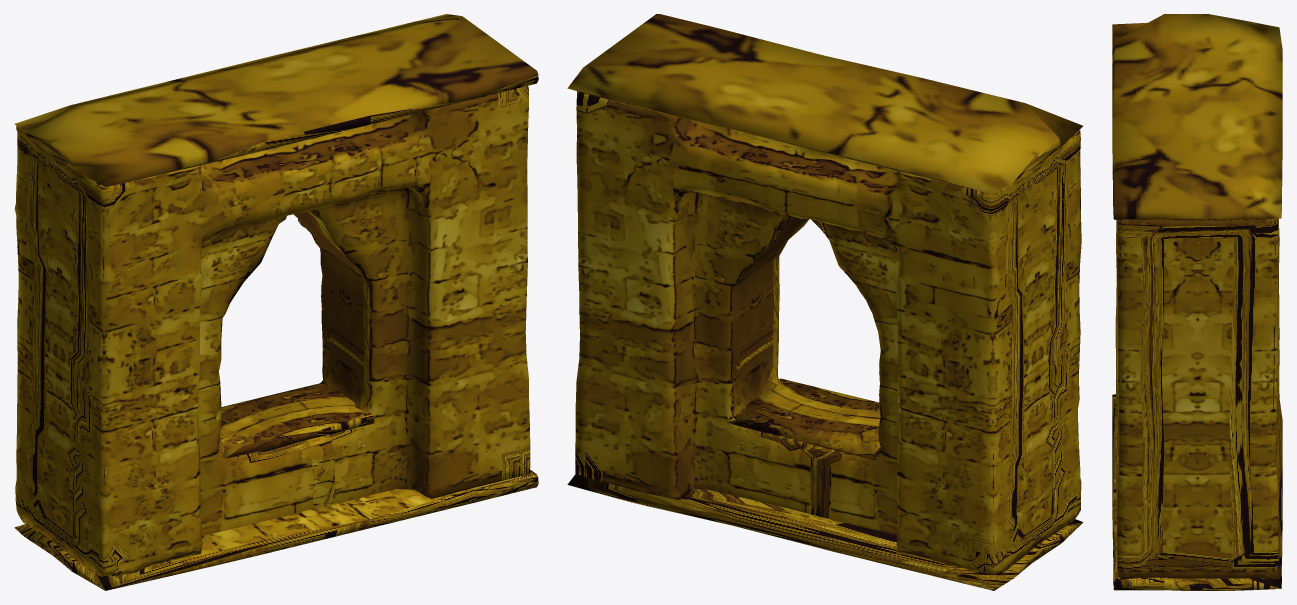
File: Estabulo.fbx
The picture shows the model from 3 angles, left to right: view 1: azimuth 30°, elevation 25°; view 2: azimuth 150°, elevation 25°; view 3: azimuth 270°, elevation 25°; orthographic projection. The views are drawn at different scales.
Parts seen in each view (by area): view 1: Skin_xZB3_2; view 2: Skin_xZB3_2; view 3: Skin_xZB3_2.
Part boxes in pixels (x1,y1,x2,y2): Skin_xZB3_2: (14, 14, 538, 590); Skin_xZB3_2: (567, 14, 1083, 590); Skin_xZB3_2: (1112, 14, 1282, 590).
Bounding box in the file's own units: 777 × 704 × 284.
